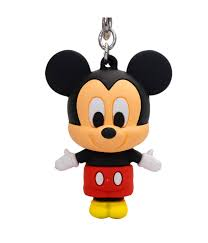mickey: (44, 47, 173, 222)
